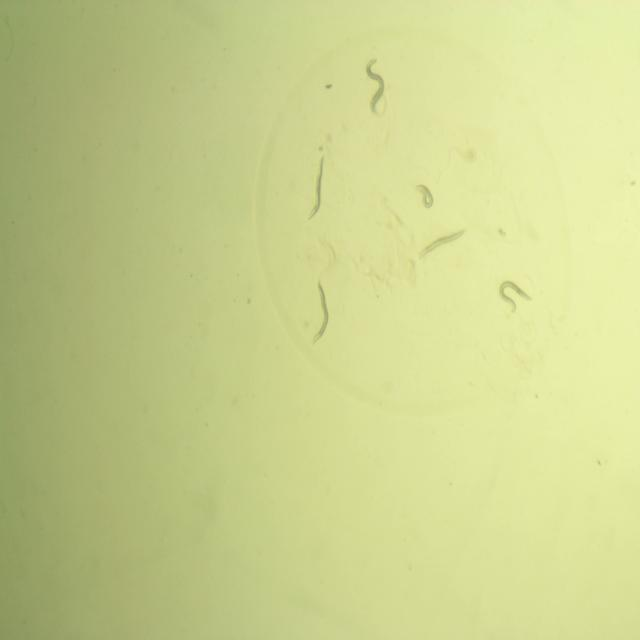worm: (414, 219, 470, 262), (358, 56, 394, 117), (496, 273, 536, 321), (302, 153, 328, 225), (309, 271, 331, 350), (412, 175, 442, 213)
